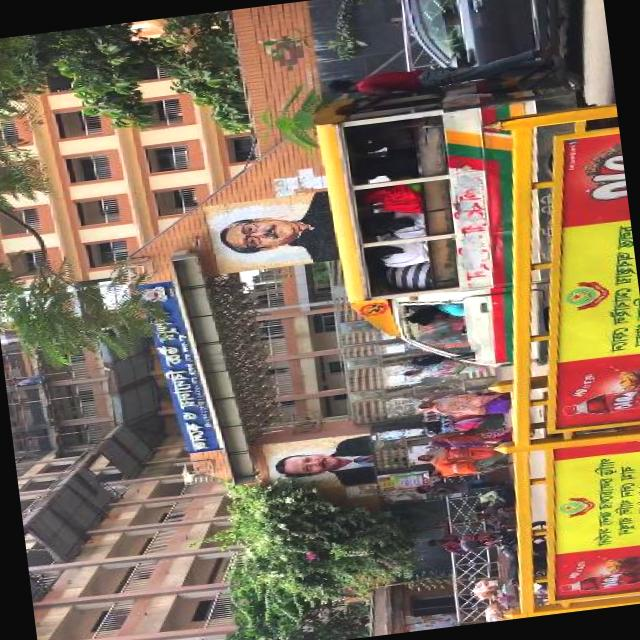bus: (306, 69, 611, 386)
car: (399, 0, 573, 80)
motorcycle: (493, 516, 556, 598)
